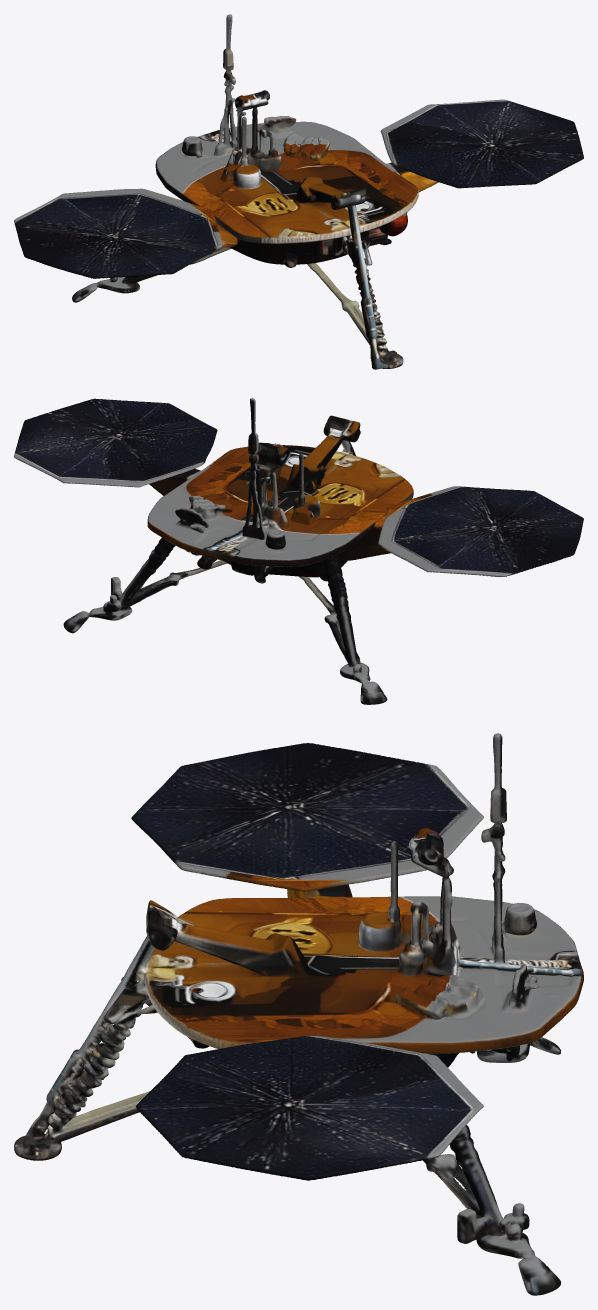
The model's file is mars lander 3d model.glb.
3 renders of one model, top to bottom at view 1: azimuth 30°, elevation 25°; view 2: azimuth 150°, elevation 25°; view 3: azimuth 270°, elevation 25°, orthographic. The views are drawn at different scales.
Visible parts, largest first — view 1: tripo_node_3a0bfca1-d937-446e-b428-32d371e0cdaa; view 2: tripo_node_3a0bfca1-d937-446e-b428-32d371e0cdaa; view 3: tripo_node_3a0bfca1-d937-446e-b428-32d371e0cdaa.
Boxes of the visible parts, x1,y1,x2,y2 form: tripo_node_3a0bfca1-d937-446e-b428-32d371e0cdaa: (14, 14, 583, 369); tripo_node_3a0bfca1-d937-446e-b428-32d371e0cdaa: (14, 398, 583, 704); tripo_node_3a0bfca1-d937-446e-b428-32d371e0cdaa: (14, 733, 583, 1295).
Bounding box in the file's own units: 1 × 0.4535 × 0.5535.
Materials: 1 (1 with a texture image).
